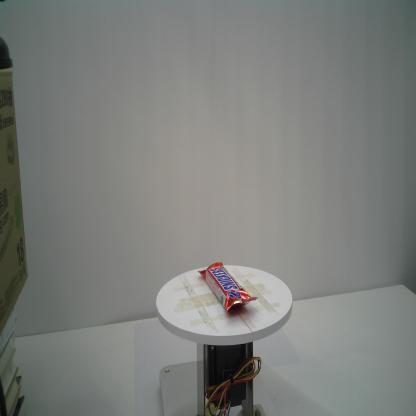Chocolate: (198, 262, 258, 312)
